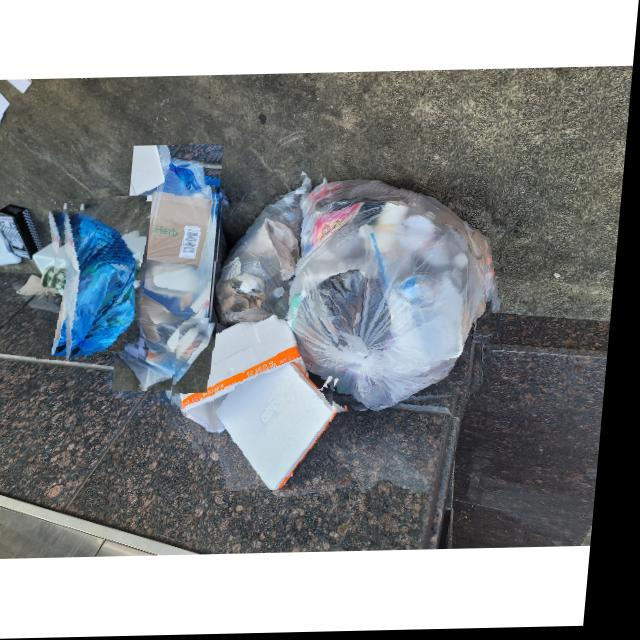other_trashbag: (224, 168, 499, 425), (168, 321, 345, 493), (120, 145, 222, 391), (65, 197, 146, 359)
